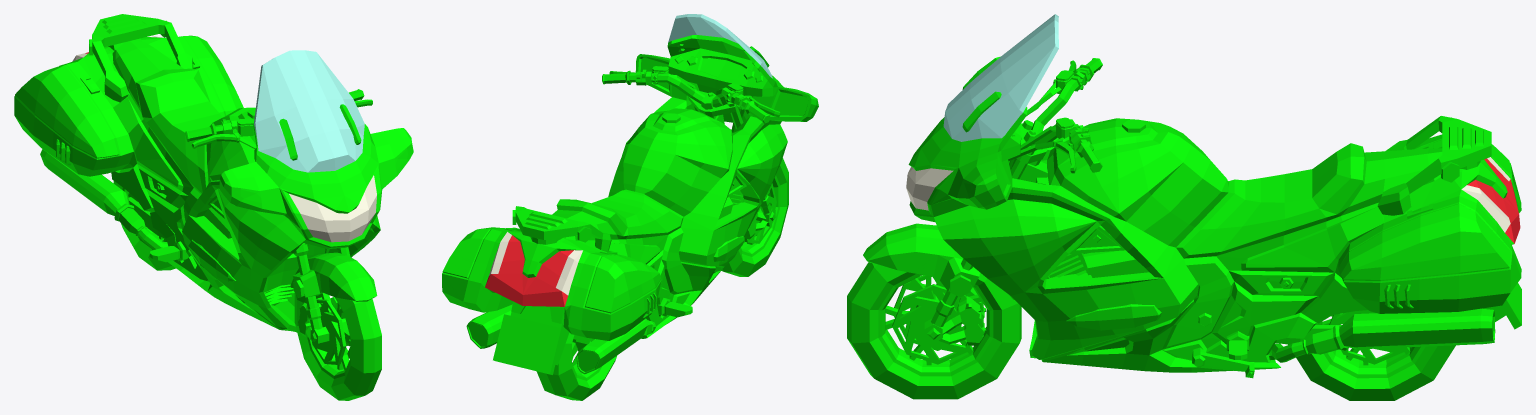
File: SM_Motorcycle_Touring_Modern.fbx
3 views of the same model, side by side, from view 1: azimuth 30°, elevation 25°; view 2: azimuth 150°, elevation 25°; view 3: azimuth 270°, elevation 25° (orthographic). The views are drawn at different scales.
Visible parts, largest first — view 1: SM_Motorcycle_Touring_Modern_Base, SM_Motorcycle_Touring_Modern_Wheel_F, SM_Motorcycle_Touring_Modern_Handlebars, SM_Motorcycle_Touring_Modern_Wheel_B; view 2: SM_Motorcycle_Touring_Modern_Base, SM_Motorcycle_Touring_Modern_Handlebars, SM_Motorcycle_Touring_Modern_Wheel_F, SM_Motorcycle_Touring_Modern_Wheel_B; view 3: SM_Motorcycle_Touring_Modern_Base, SM_Motorcycle_Touring_Modern_Wheel_F, SM_Motorcycle_Touring_Modern_Handlebars, SM_Motorcycle_Touring_Modern_Wheel_B.
Part boxes in pixels (x1,y1,x2,y2): SM_Motorcycle_Touring_Modern_Base: [14, 14, 413, 332]; SM_Motorcycle_Touring_Modern_Wheel_F: [294, 292, 381, 400]; SM_Motorcycle_Touring_Modern_Handlebars: [185, 89, 377, 344]; SM_Motorcycle_Touring_Modern_Wheel_B: [113, 181, 175, 270]; SM_Motorcycle_Touring_Modern_Base: [442, 14, 818, 374]; SM_Motorcycle_Touring_Modern_Handlebars: [602, 66, 780, 239]; SM_Motorcycle_Touring_Modern_Wheel_F: [721, 158, 788, 276]; SM_Motorcycle_Touring_Modern_Wheel_B: [536, 332, 616, 400]; SM_Motorcycle_Touring_Modern_Base: [906, 14, 1521, 378]; SM_Motorcycle_Touring_Modern_Wheel_F: [847, 262, 1021, 399]; SM_Motorcycle_Touring_Modern_Handlebars: [863, 58, 1102, 345]; SM_Motorcycle_Touring_Modern_Wheel_B: [1288, 310, 1455, 400].
Bounding box in the file's own units: 0.9226 × 1.45 × 2.35.
